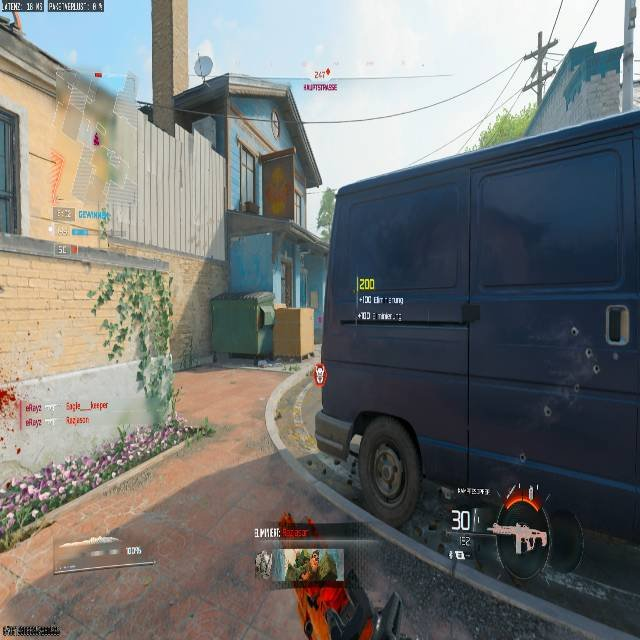player: (99, 222, 109, 246)
